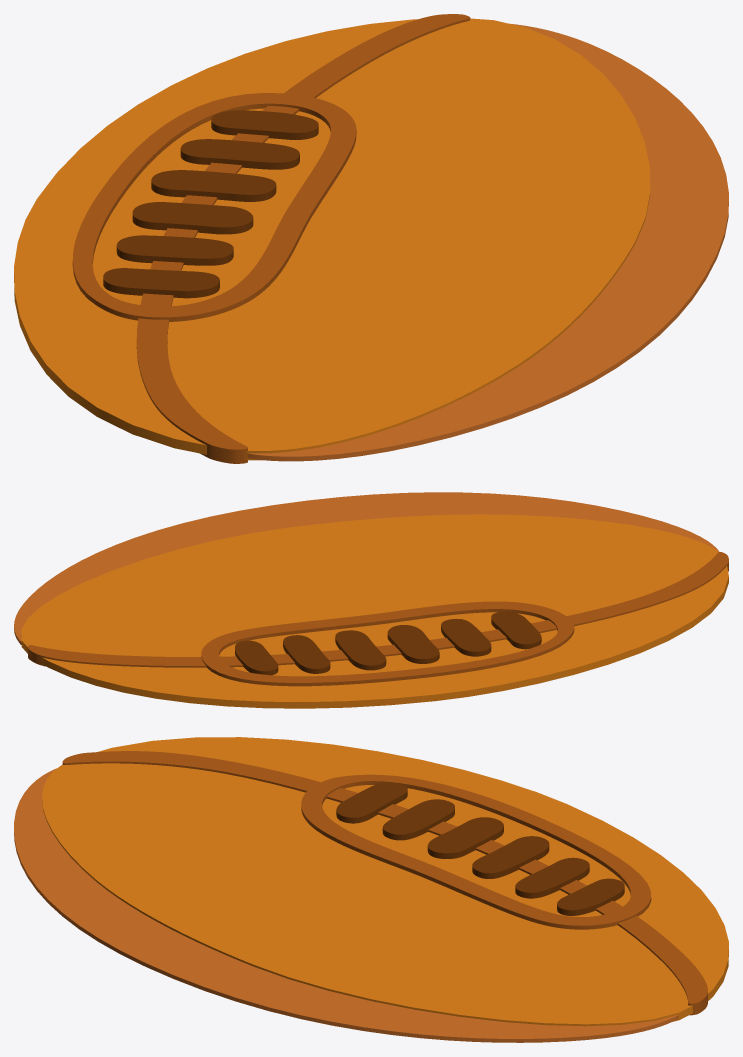
Rendered from emoji_u1f3c9.glb.
3 views of the same model, one above another, from view 1: azimuth 30°, elevation 25°; view 2: azimuth 150°, elevation 25°; view 3: azimuth 270°, elevation 25° (orthographic). The views are drawn at different scales.
Visible parts, largest first — view 1: emoji_u1f3c9; view 2: emoji_u1f3c9; view 3: emoji_u1f3c9.
Boxes of the visible parts, left/top/right/bottom form: emoji_u1f3c9: left=14, top=14, right=728, bottom=463; emoji_u1f3c9: left=14, top=492, right=728, bottom=708; emoji_u1f3c9: left=14, top=737, right=728, bottom=1042.
Bounding box in the file's own units: 0.0336 × 0.001 × 0.0338.
